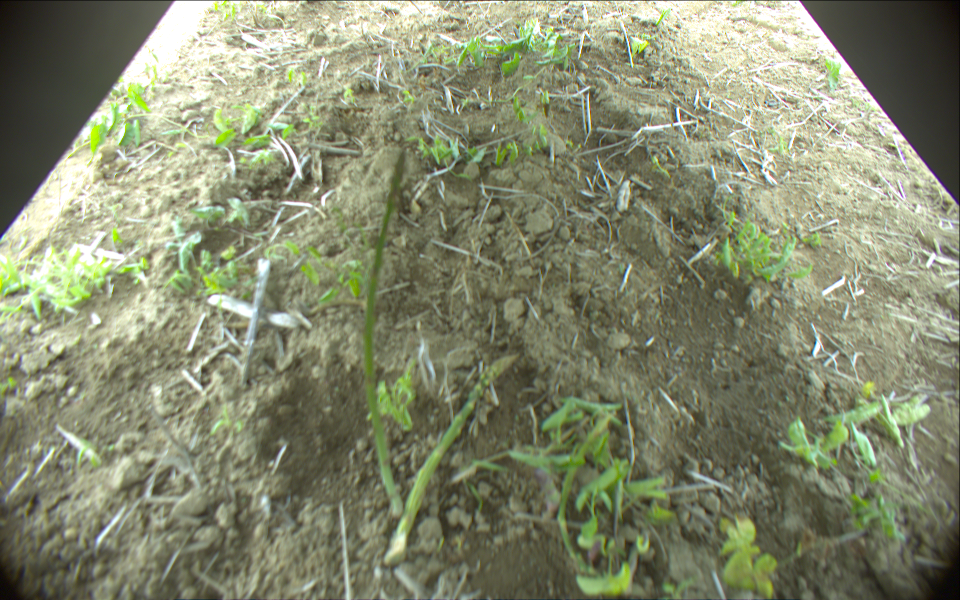aspa: (381, 354, 518, 565), (362, 150, 407, 521)
